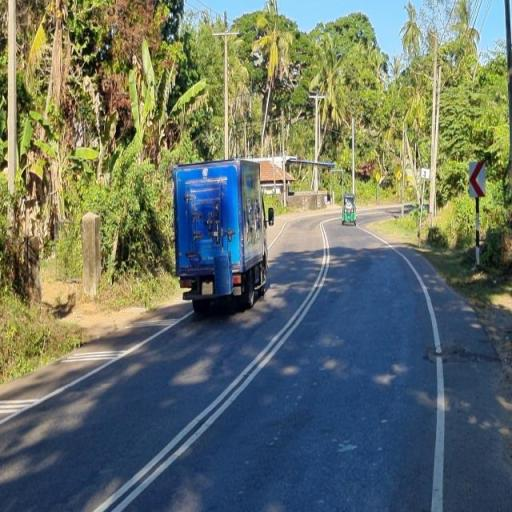double_white_line: (93, 217, 334, 512)
